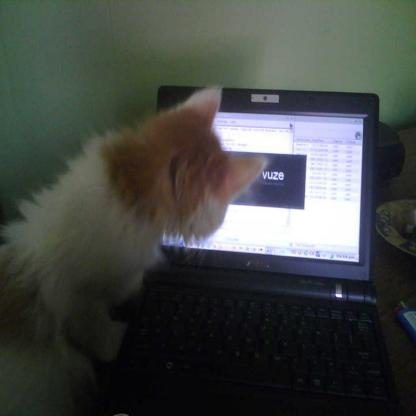board: (100, 86, 405, 416)
